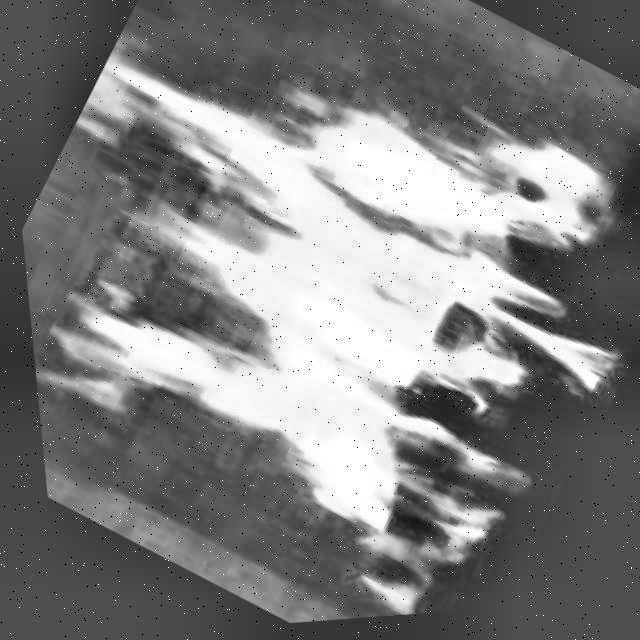Fire: (3, 14, 549, 544)
